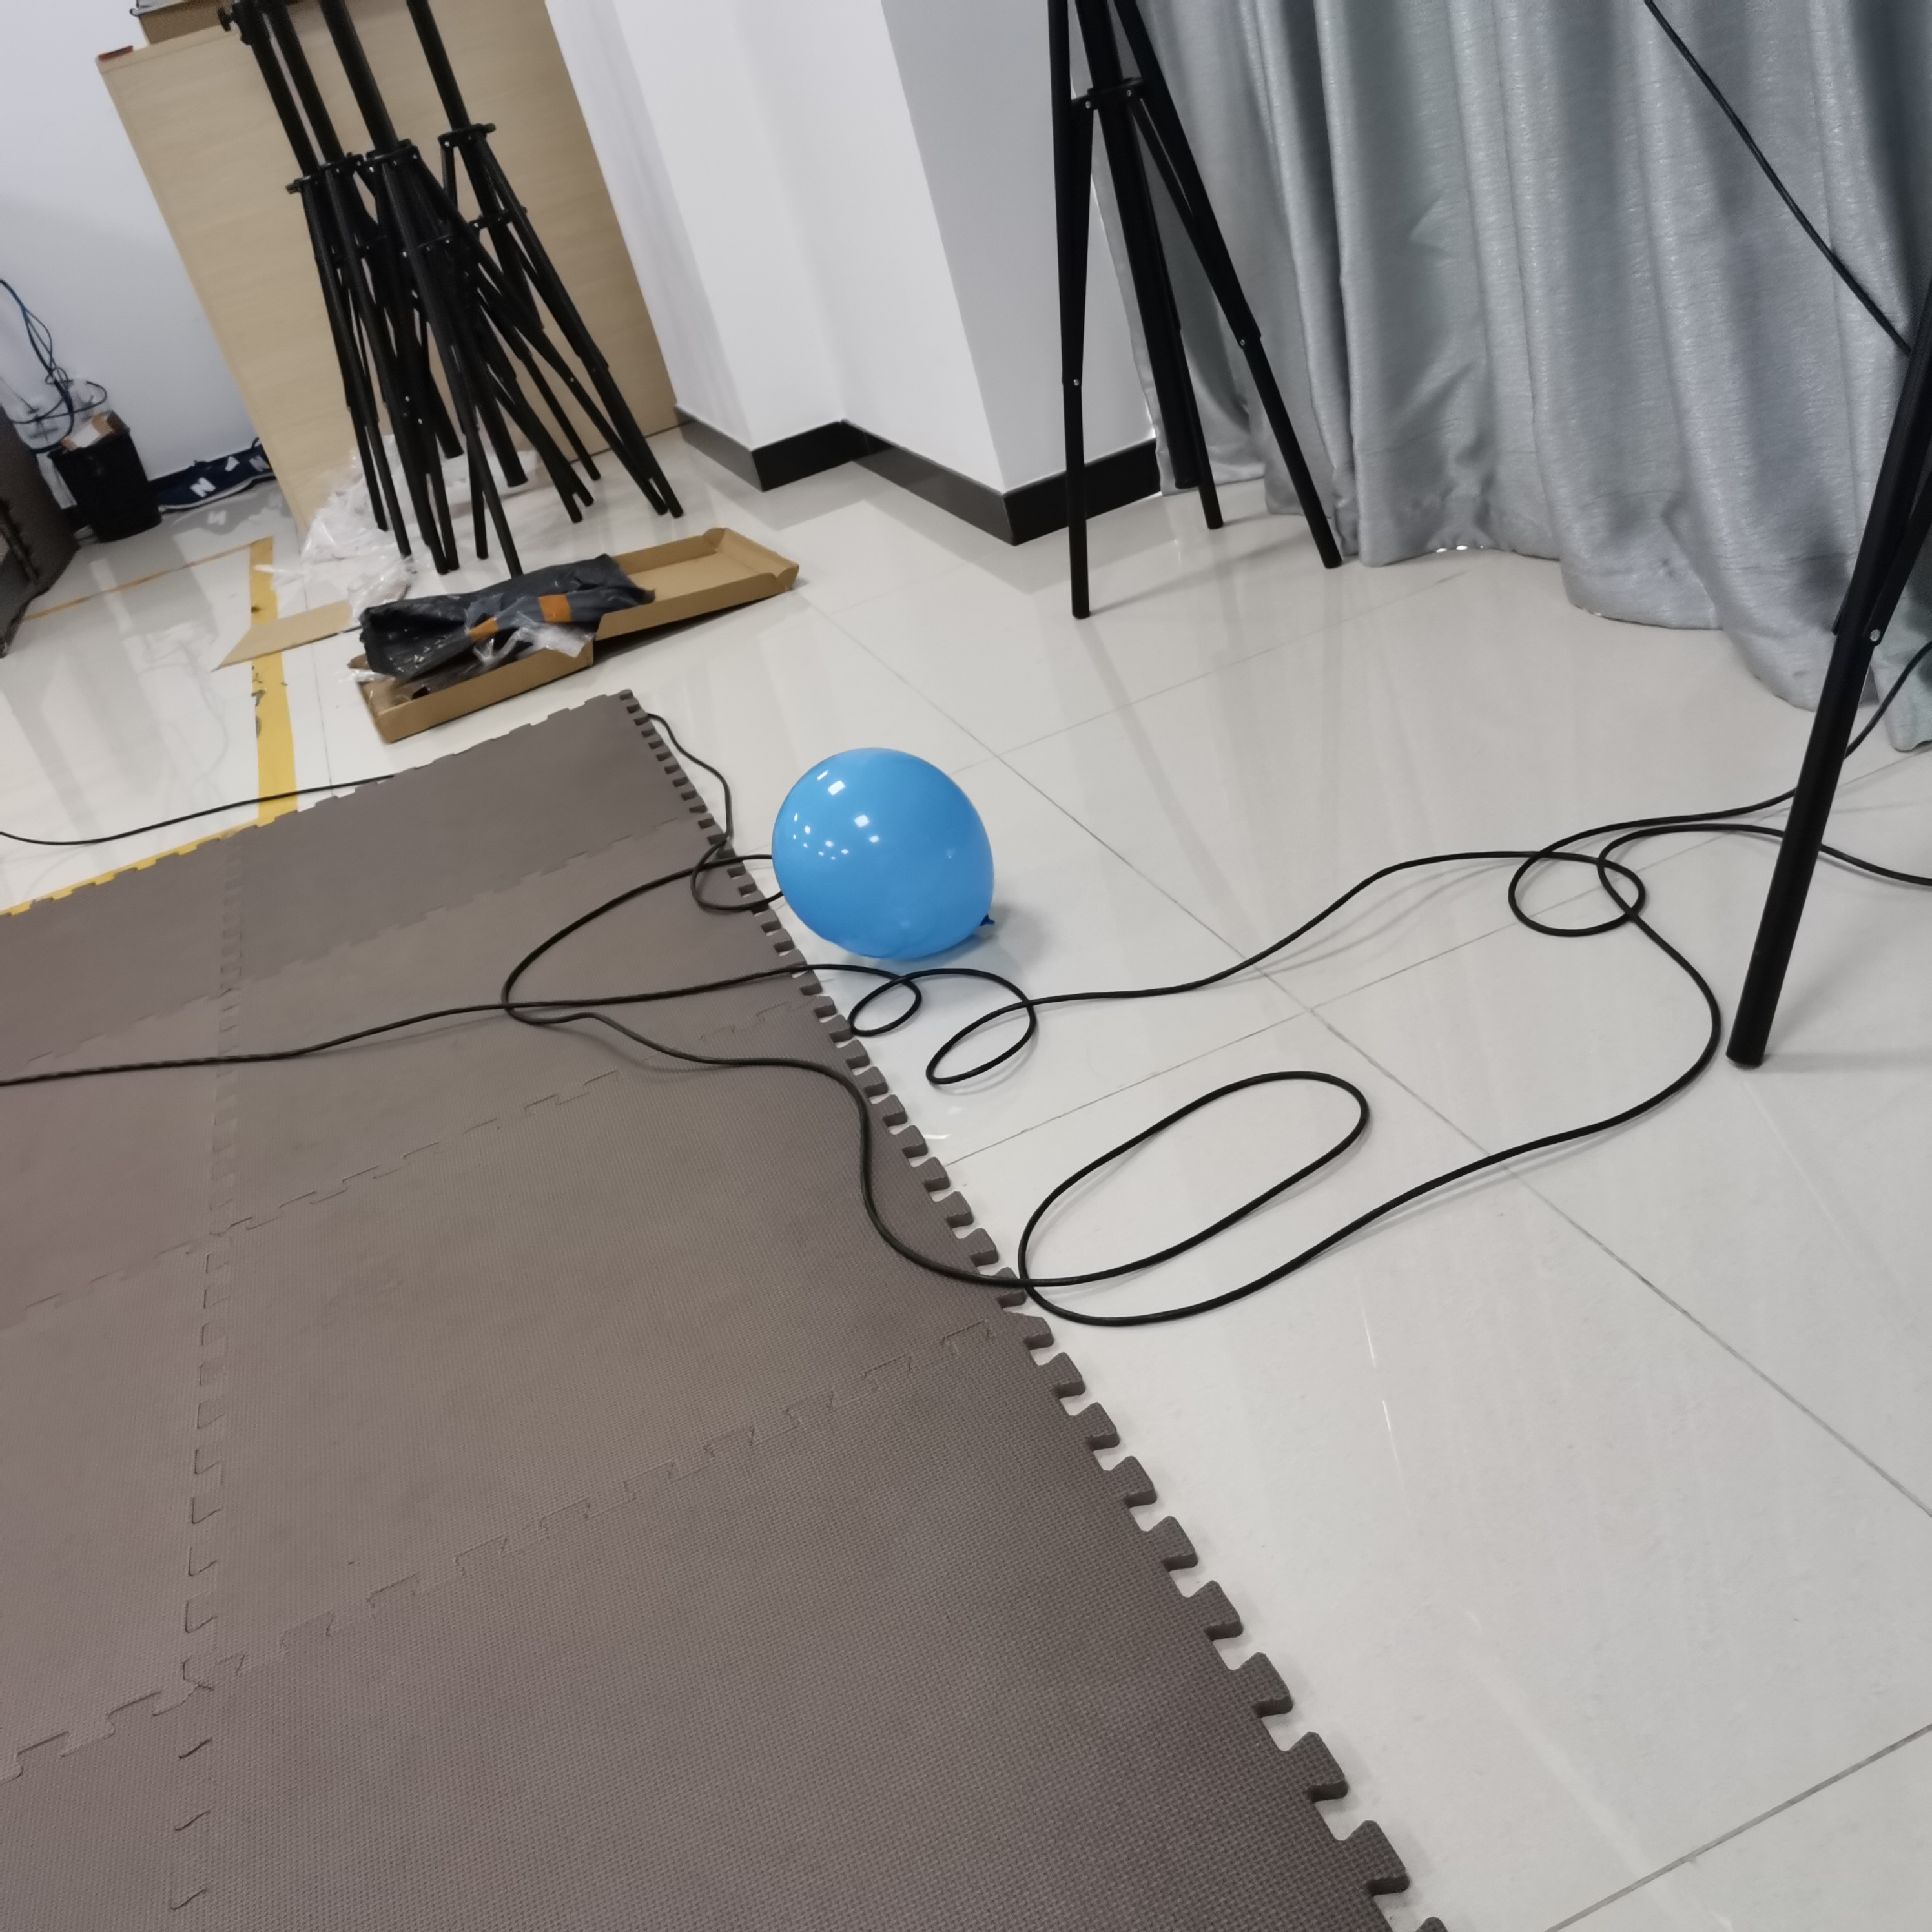balloon: (770, 748, 998, 964)
